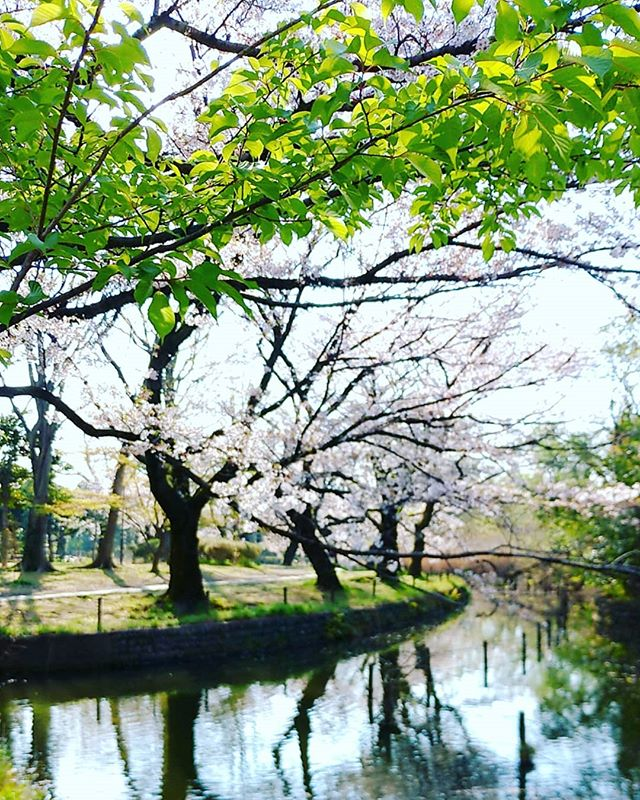river: (1, 592, 640, 800)
tree: (42, 242, 281, 644), (255, 272, 420, 622)
vegetation: (1, 1, 593, 286)
